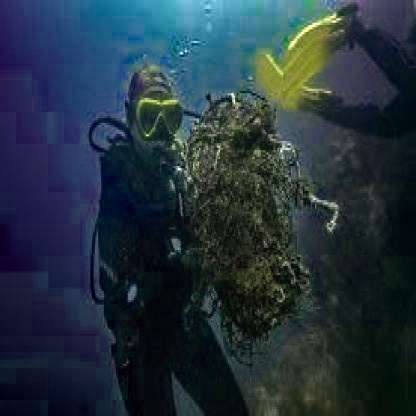net: (188, 93, 306, 348)
